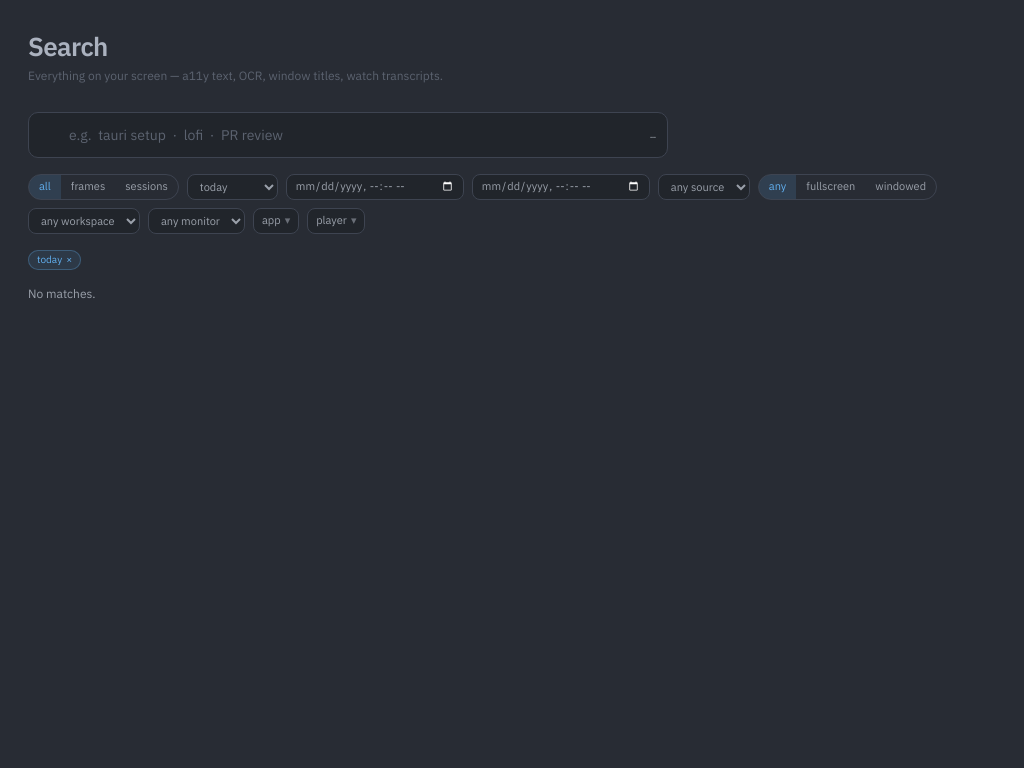
Test: SearchSurface › compiles typed tokens into filters and keeps the text as the FTS query
The image size is (1024, 768).
Type "roger app:sidra" into the field named "search query" at (348, 135), box [28, 112, 668, 158]
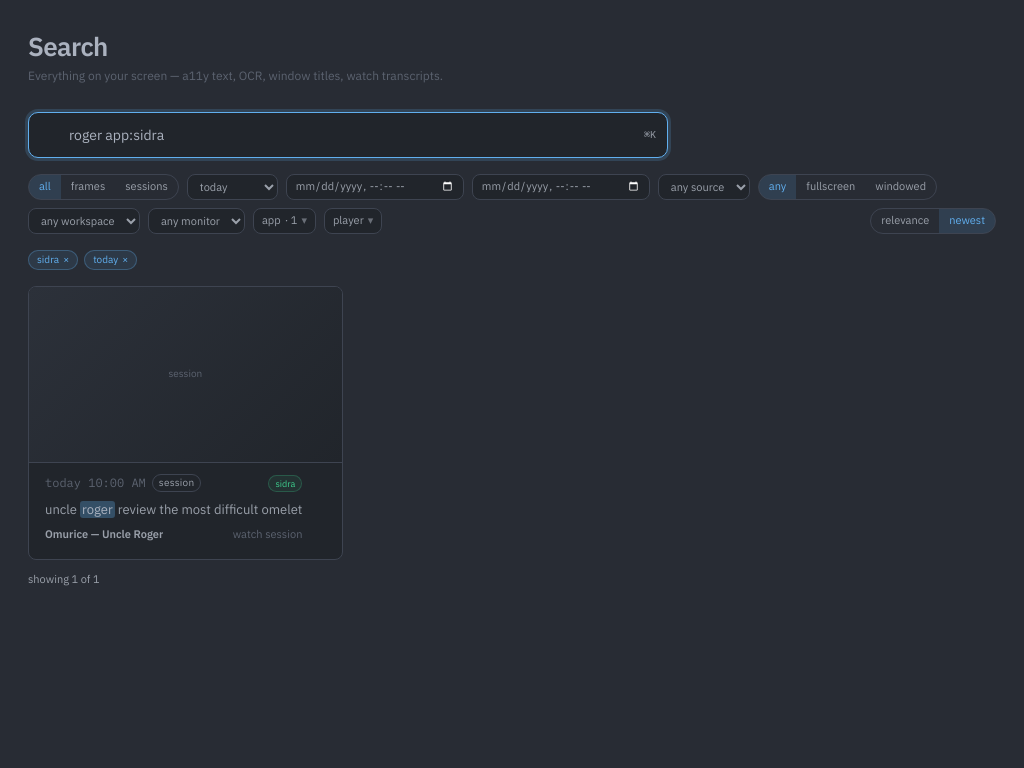
Expected: the text "Omurice — Uncle Roger" is shown, [45, 527, 163, 543]
Expected: the text "roger" is shown, [80, 501, 115, 518]
Expected: the button with aria-label "remove sidra filter" is shown, [28, 250, 78, 270]
